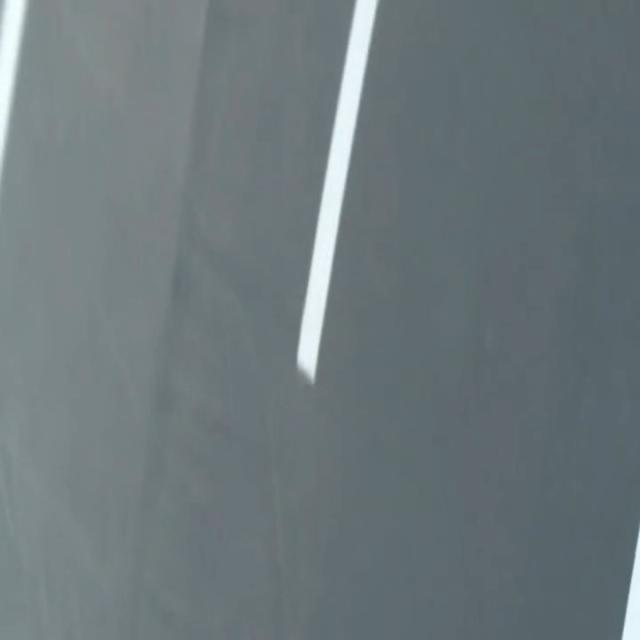center: (297, 0, 378, 383)
right: (621, 530, 639, 639)
